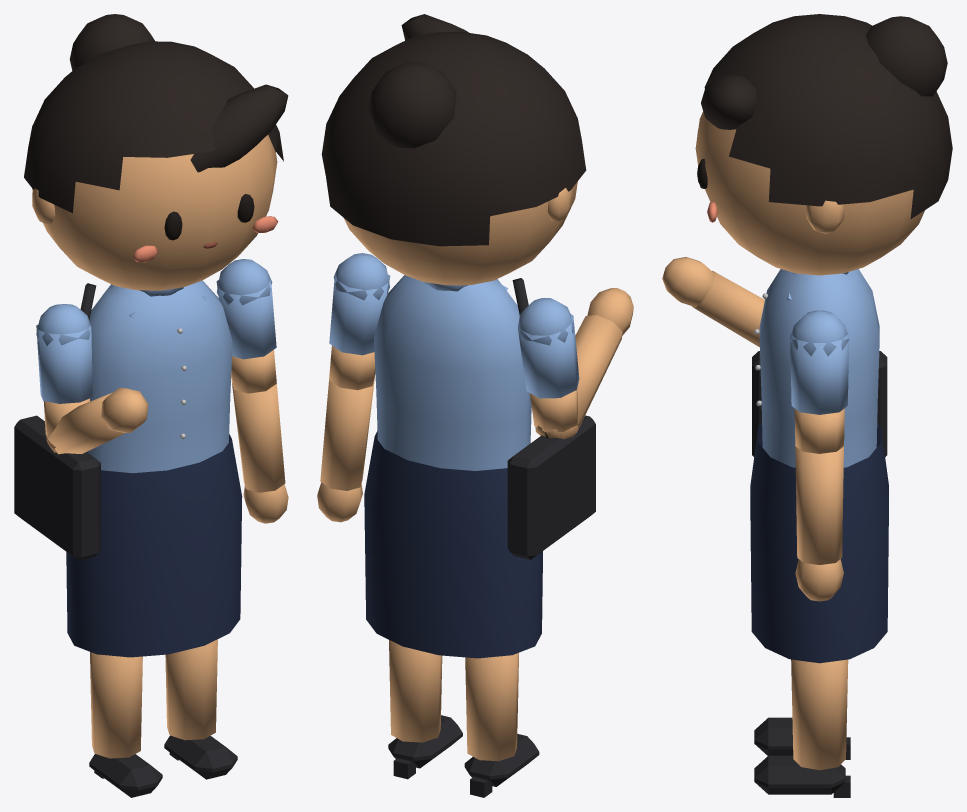
File: era4_office_woman.glb
3 views of the same model, side by side, from view 1: azimuth 30°, elevation 25°; view 2: azimuth 150°, elevation 25°; view 3: azimuth 270°, elevation 25° (orthographic). The views are drawn at different scales.
Parts seen in each view (by area): view 1: body, head, shin_R, shin_L, arm_L, arm_R, forearm_L, forearm_R; view 2: body, head, shin_R, arm_R, shin_L, arm_L, forearm_L, forearm_R; view 3: head, body, shin_L, arm_L, forearm_L, forearm_R, shin_R.
Boxes of the visible parts, bbox=[...] form: body: bbox=[14, 280, 242, 657]; head: bbox=[24, 14, 288, 290]; shin_R: bbox=[89, 652, 162, 797]; shin_L: bbox=[164, 639, 237, 779]; arm_L: bbox=[216, 259, 276, 393]; arm_R: bbox=[36, 304, 92, 452]; forearm_L: bbox=[232, 383, 288, 523]; forearm_R: bbox=[46, 388, 148, 454]; body: bbox=[364, 275, 595, 658]; head: bbox=[321, 14, 586, 285]; shin_R: bbox=[464, 653, 539, 797]; arm_R: bbox=[518, 298, 579, 439]; shin_L: bbox=[388, 640, 462, 779]; arm_L: bbox=[329, 253, 390, 389]; forearm_L: bbox=[317, 379, 374, 522]; forearm_R: bbox=[537, 288, 633, 438]; head: bbox=[695, 14, 952, 275]; body: bbox=[750, 269, 888, 663]; shin_L: bbox=[754, 659, 850, 797]; arm_L: bbox=[790, 310, 849, 453]; forearm_L: bbox=[795, 446, 843, 601]; forearm_R: bbox=[662, 257, 764, 347]; shin_R: bbox=[754, 717, 850, 759].
Bounding box in the file's own units: 0.5284 × 1.48 × 0.5159.
